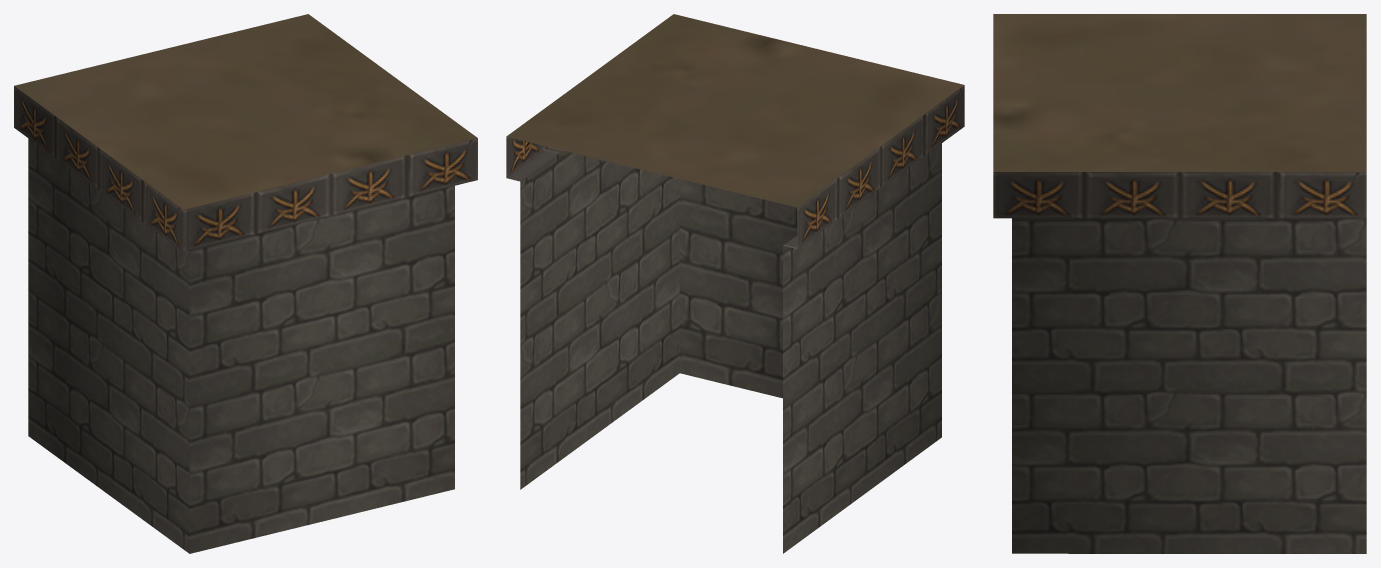
Rendered from Time limit_Wall_05.FBX.
3 renders of one model, left to right at view 1: azimuth 30°, elevation 25°; view 2: azimuth 150°, elevation 25°; view 3: azimuth 270°, elevation 25°, orthographic. The views are drawn at different scales.
Parts seen in each view (by area): view 1: Time limit_Wall_05; view 2: Time limit_Wall_05; view 3: Time limit_Wall_05.
Boxes of the visible parts, x1,y1,x2,y2 form: Time limit_Wall_05: (14, 14, 477, 553); Time limit_Wall_05: (506, 14, 964, 553); Time limit_Wall_05: (993, 14, 1366, 553).
Bounding box in the file's own units: 8.07 × 9.27 × 8.05.
